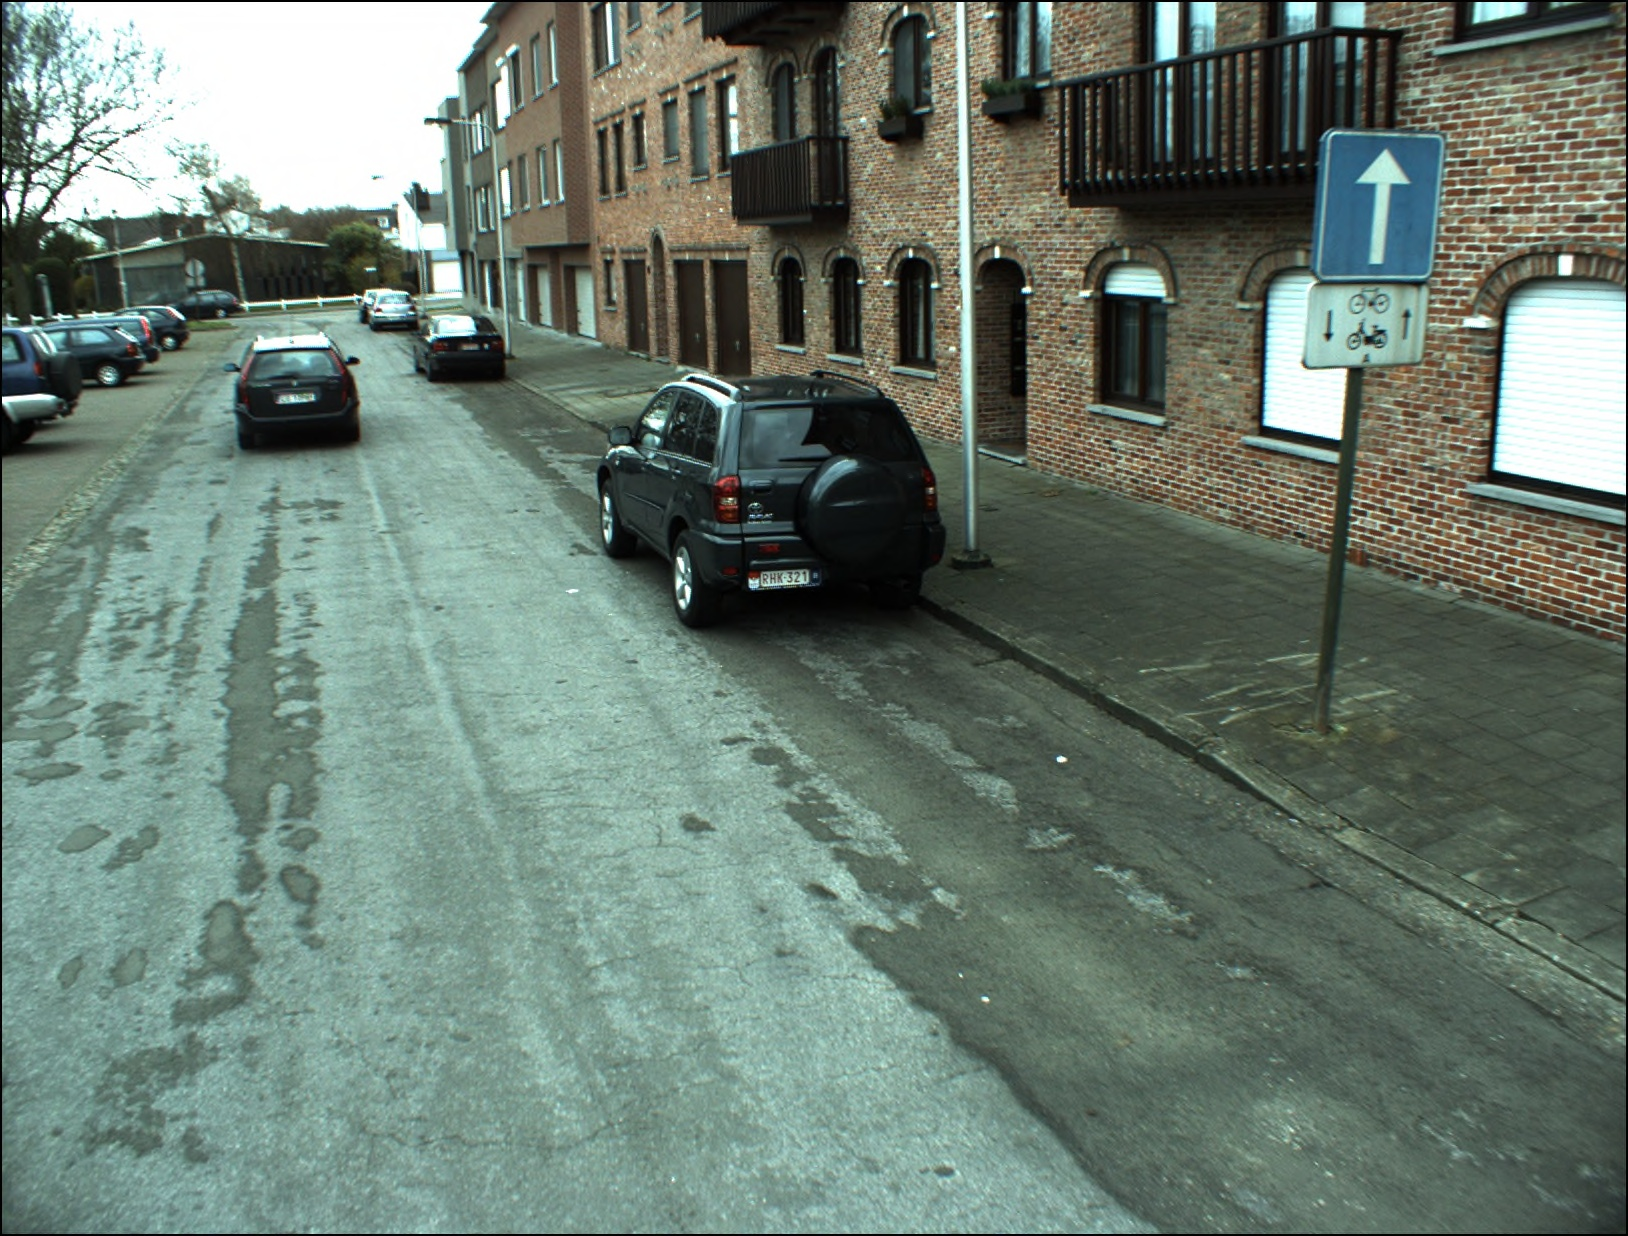oneway: (1315, 131, 1445, 280)
